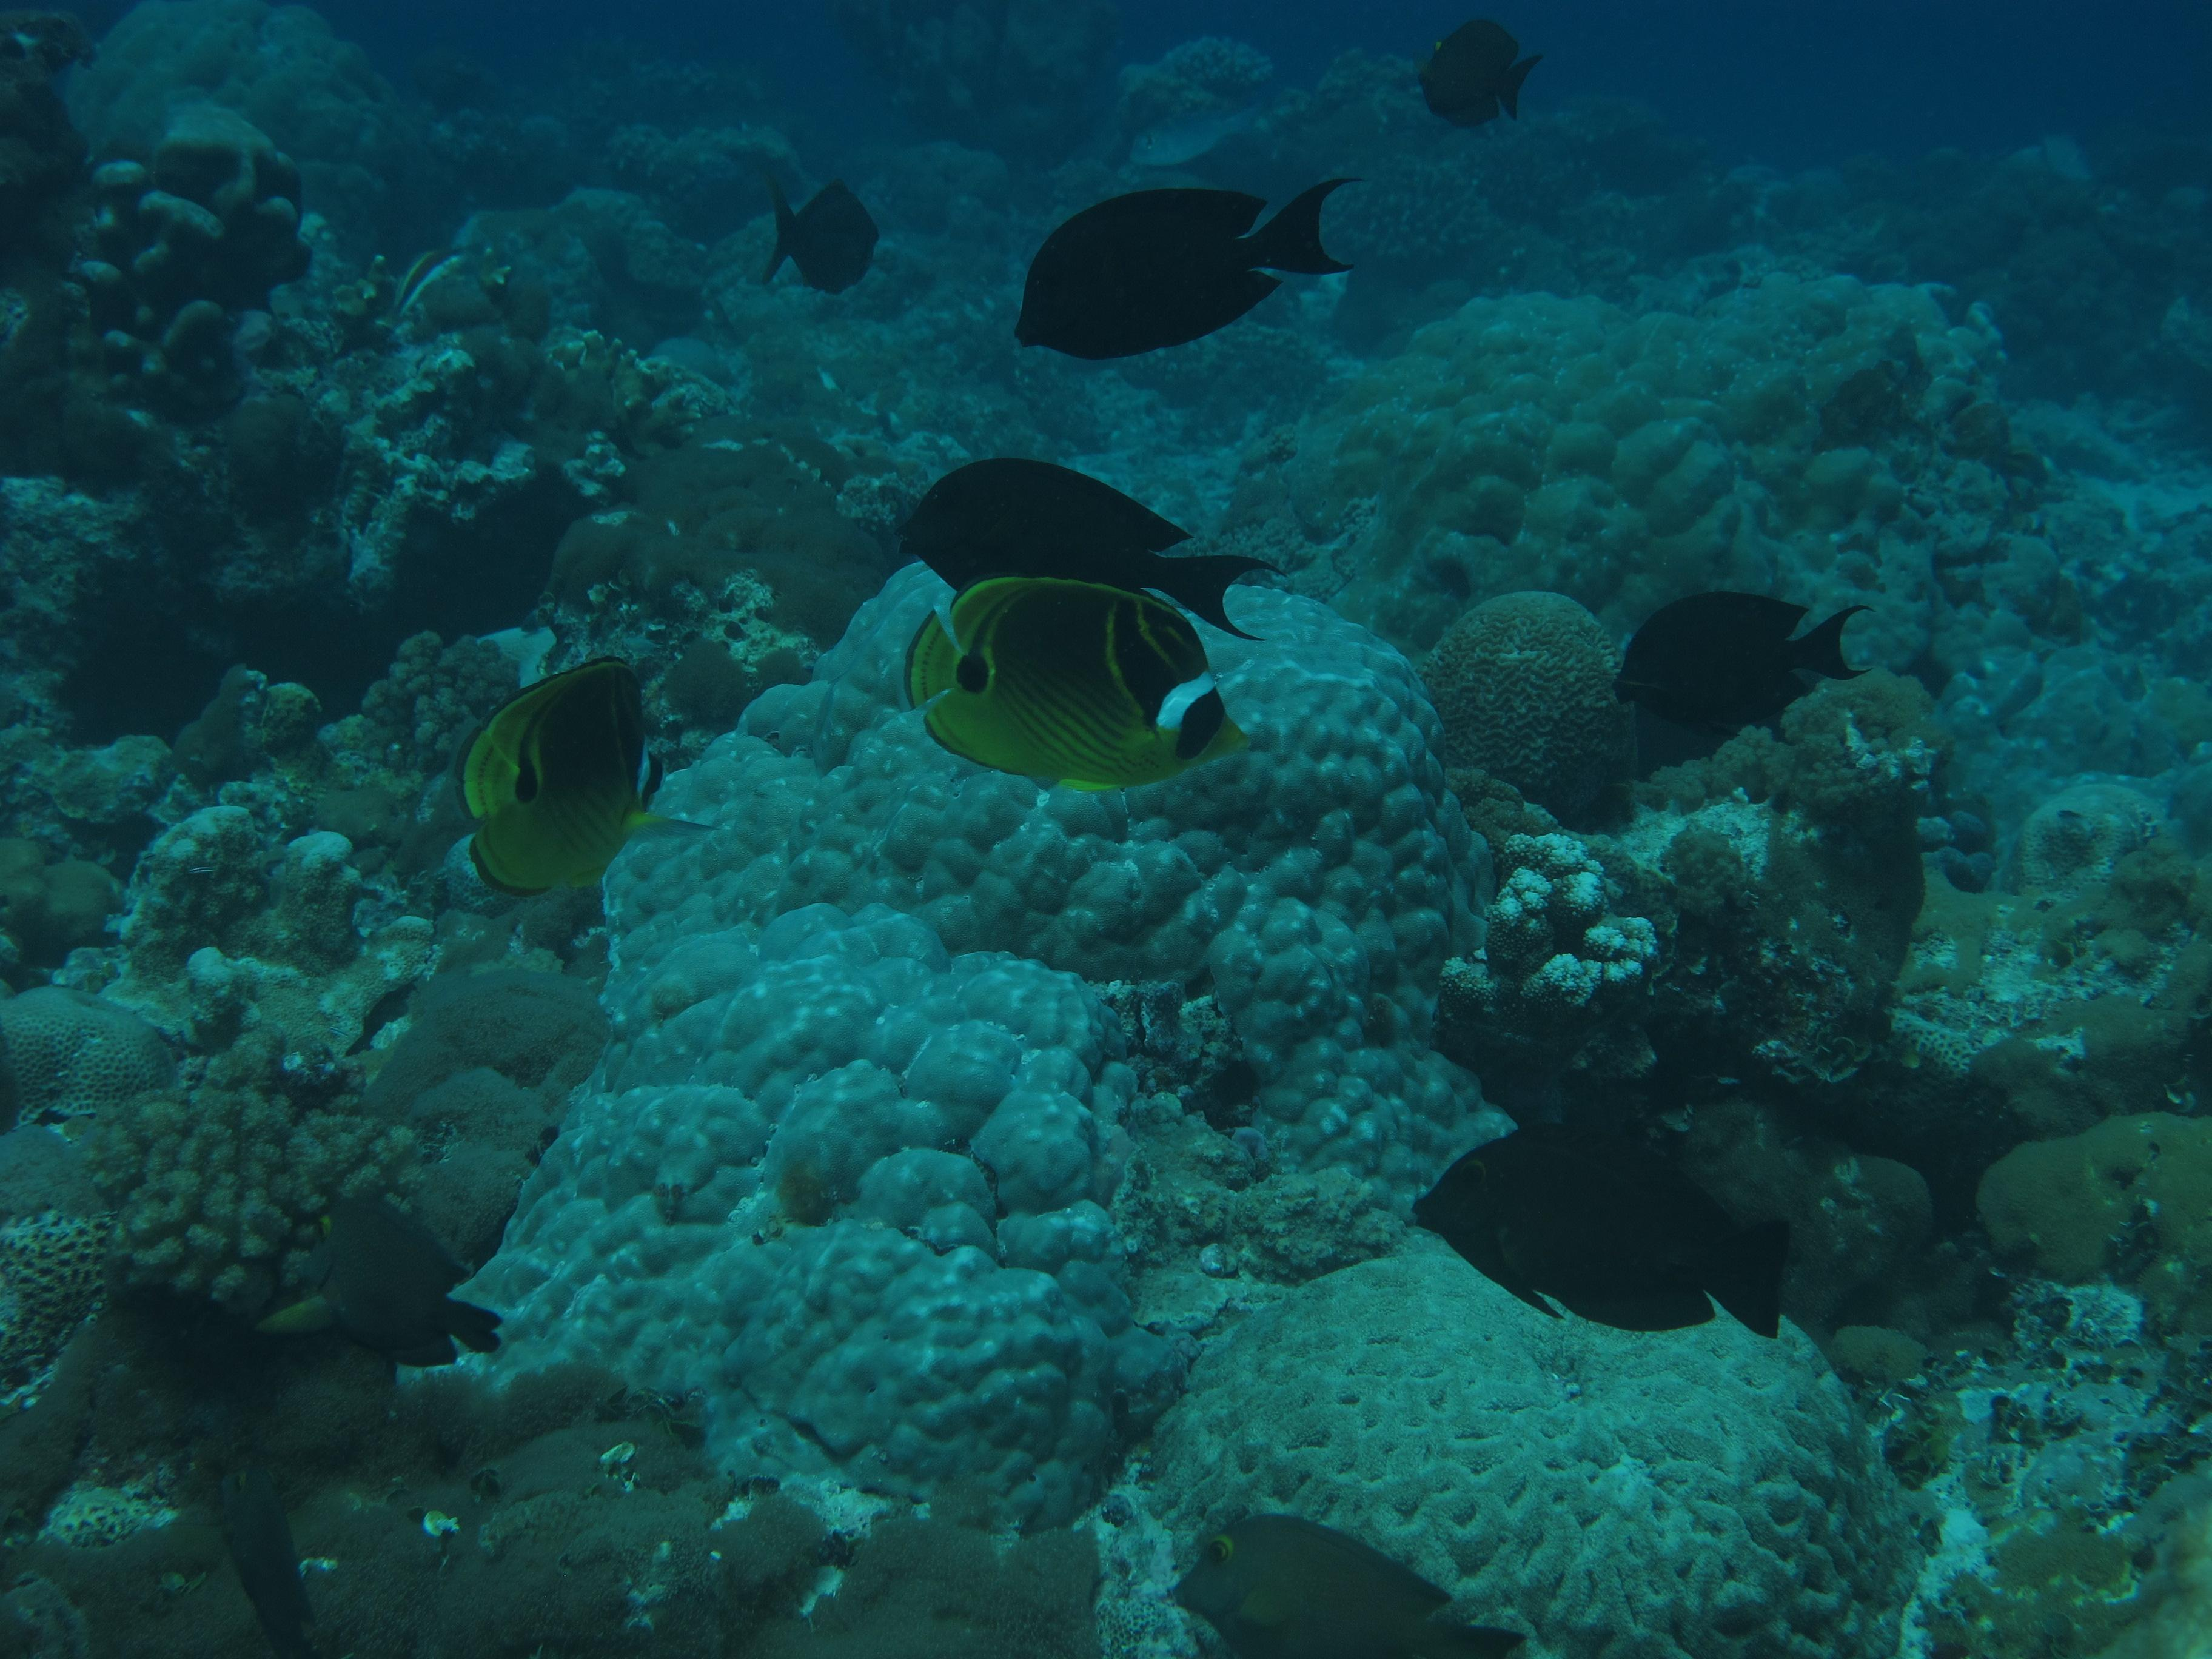Fish: (907, 565, 1249, 838), (455, 647, 693, 918)
